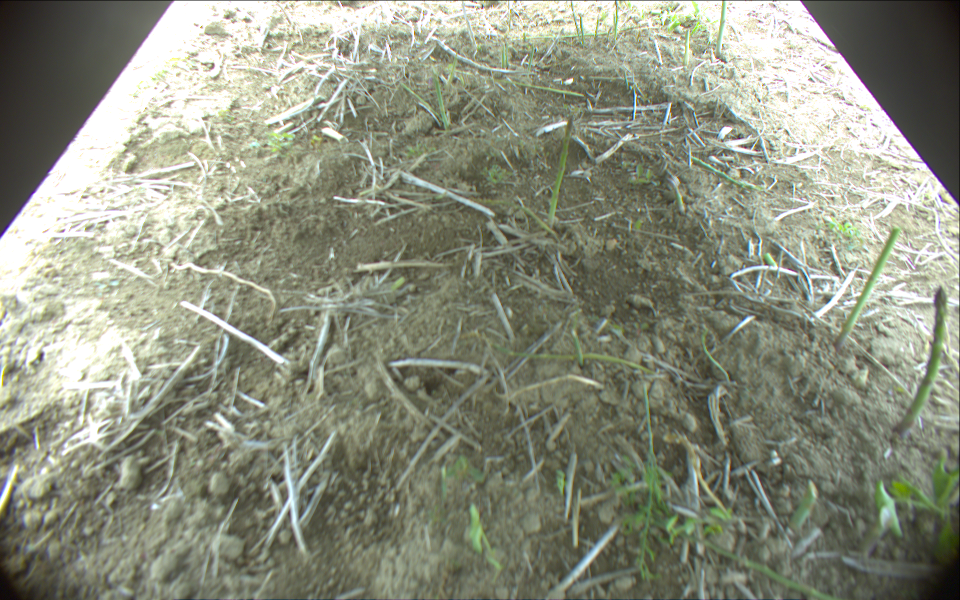aspa: (891, 285, 948, 435), (836, 226, 899, 343), (547, 116, 574, 226), (489, 76, 586, 97), (399, 81, 441, 121), (433, 72, 450, 128), (715, 1, 728, 56), (568, 1, 583, 40), (447, 53, 458, 85), (527, 43, 538, 74), (683, 29, 693, 59), (612, 1, 618, 40), (504, 42, 512, 69), (578, 15, 586, 40), (500, 40, 506, 69), (595, 14, 601, 39)
